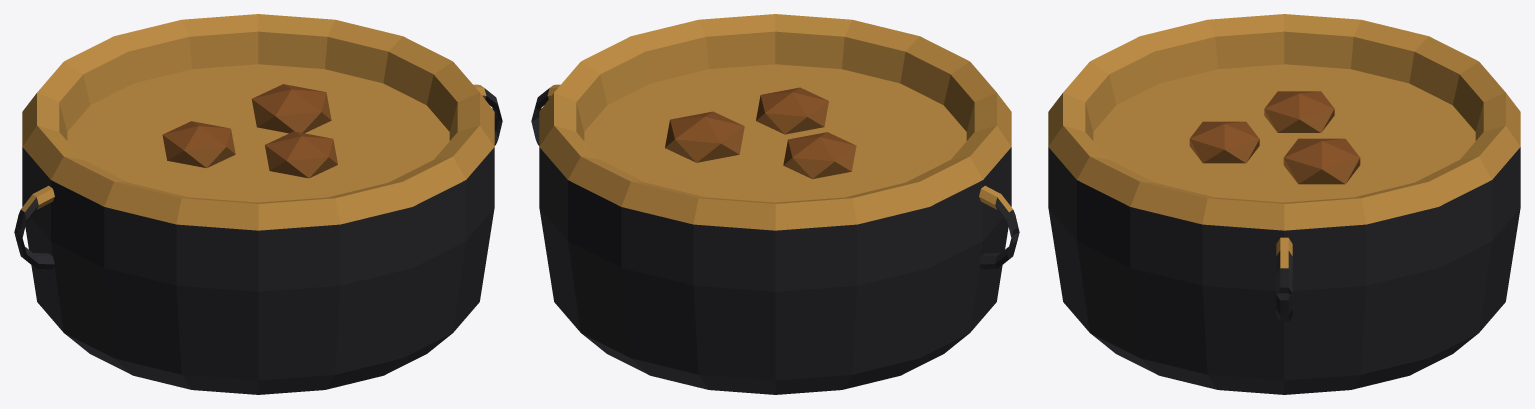
File: Farm_Bake.glb
3 renders of one model, left to right at view 1: azimuth 30°, elevation 25°; view 2: azimuth 150°, elevation 25°; view 3: azimuth 270°, elevation 25°, orthographic.
Visible parts, largest first — view 1: _ITEM_FarmBake; view 2: _ITEM_FarmBake; view 3: _ITEM_FarmBake.
Part boxes in pixels (x1,y1,x2,y2): _ITEM_FarmBake: [14, 14, 502, 394]; _ITEM_FarmBake: [531, 14, 1019, 394]; _ITEM_FarmBake: [1048, 14, 1520, 394].
Size of the model in its own units: 0.74 by 0.3 by 0.6303.
